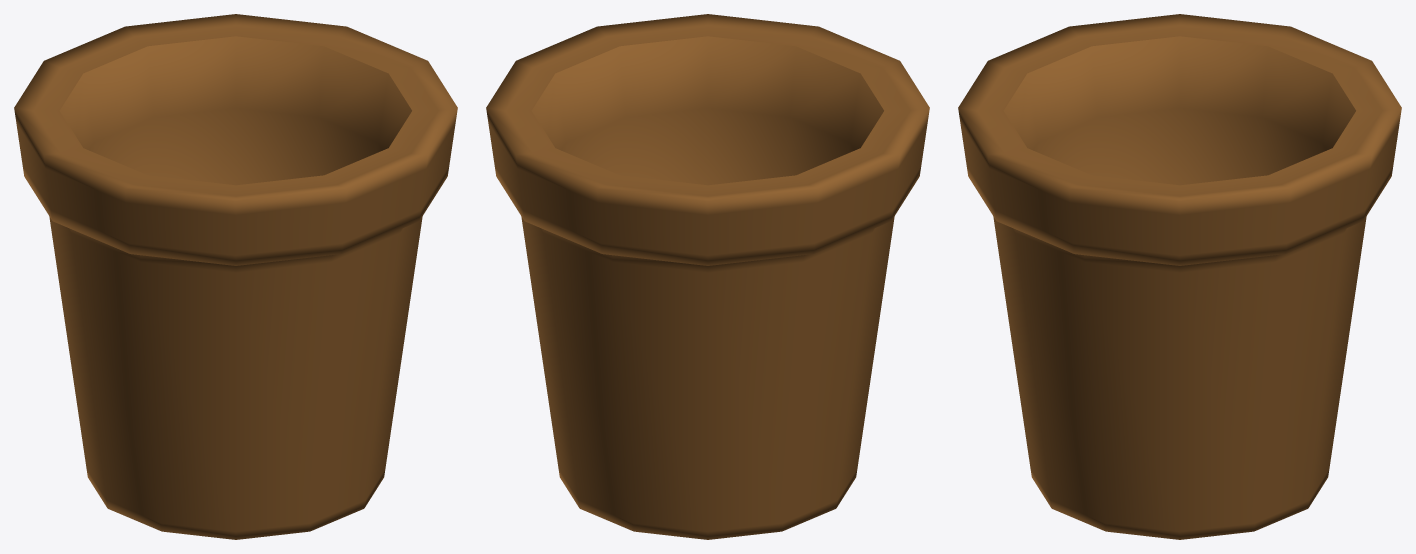
The model's file is kukkaruukku.fbx.
The picture shows the model from 3 angles, left to right: view 1: azimuth 30°, elevation 25°; view 2: azimuth 150°, elevation 25°; view 3: azimuth 270°, elevation 25°; orthographic projection.
Visible parts, largest first — view 1: kukkaruukku; view 2: kukkaruukku; view 3: kukkaruukku.
Part boxes in pixels (bbox=[...]): kukkaruukku: bbox=[14, 14, 457, 539]; kukkaruukku: bbox=[486, 14, 929, 539]; kukkaruukku: bbox=[958, 14, 1401, 539].
Size of the model in its own units: 28.67 by 26.35 by 28.67.
